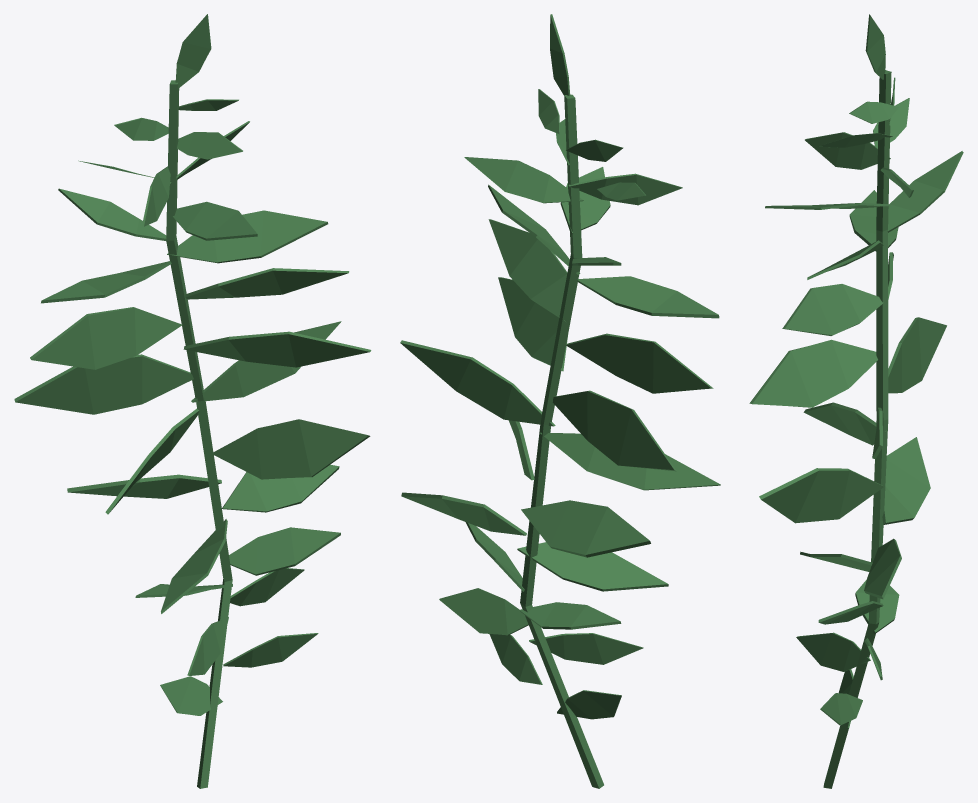
The model's file is Seaweed_002.glb.
The picture shows the model from 3 angles, left to right: view 1: azimuth 30°, elevation 25°; view 2: azimuth 150°, elevation 25°; view 3: azimuth 270°, elevation 25°; orthographic projection. The views are drawn at different scales.
Visible parts, largest first — view 1: Seaweed_002; view 2: Seaweed_002; view 3: Seaweed_002.
Boxes of the visible parts, <box> form: Seaweed_002: <box>14,14,371,788</box>; Seaweed_002: <box>400,14,720,788</box>; Seaweed_002: <box>749,14,963,788</box>.
Bounding box in the file's own units: 0.9657 × 2.27 × 0.5616.
Materials: 1 (1 with a texture image).
